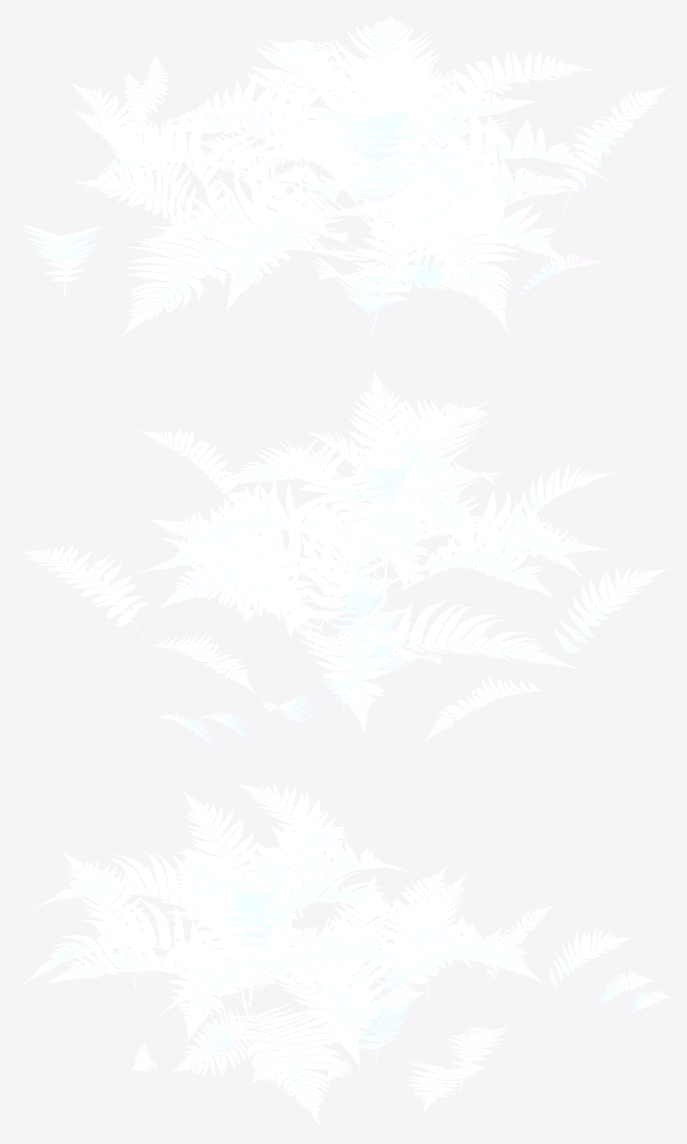
3 renders of one model, top to bottom at view 1: azimuth 30°, elevation 25°; view 2: azimuth 150°, elevation 25°; view 3: azimuth 270°, elevation 25°, orthographic. The views are drawn at different scales.
Parts seen in each view (by area): view 1: SM_FH_Fern_02_LOD0; view 2: SM_FH_Fern_02_LOD0; view 3: SM_FH_Fern_02_LOD0.
Boxes of the visible parts, box(x1,y1,x2,y2) form: SM_FH_Fern_02_LOD0: box(17, 15, 669, 336); SM_FH_Fern_02_LOD0: box(19, 371, 669, 751); SM_FH_Fern_02_LOD0: box(18, 782, 670, 1125).
Size of the model in its own units: 1.08 by 0.3968 by 1.07.
1 material, 1 textured.
